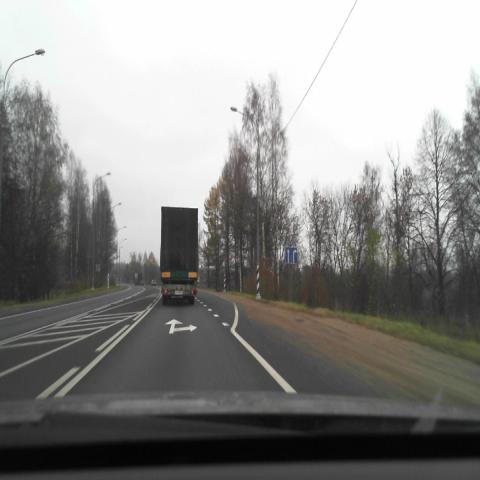5_15_2_2: (285, 246, 297, 262)
